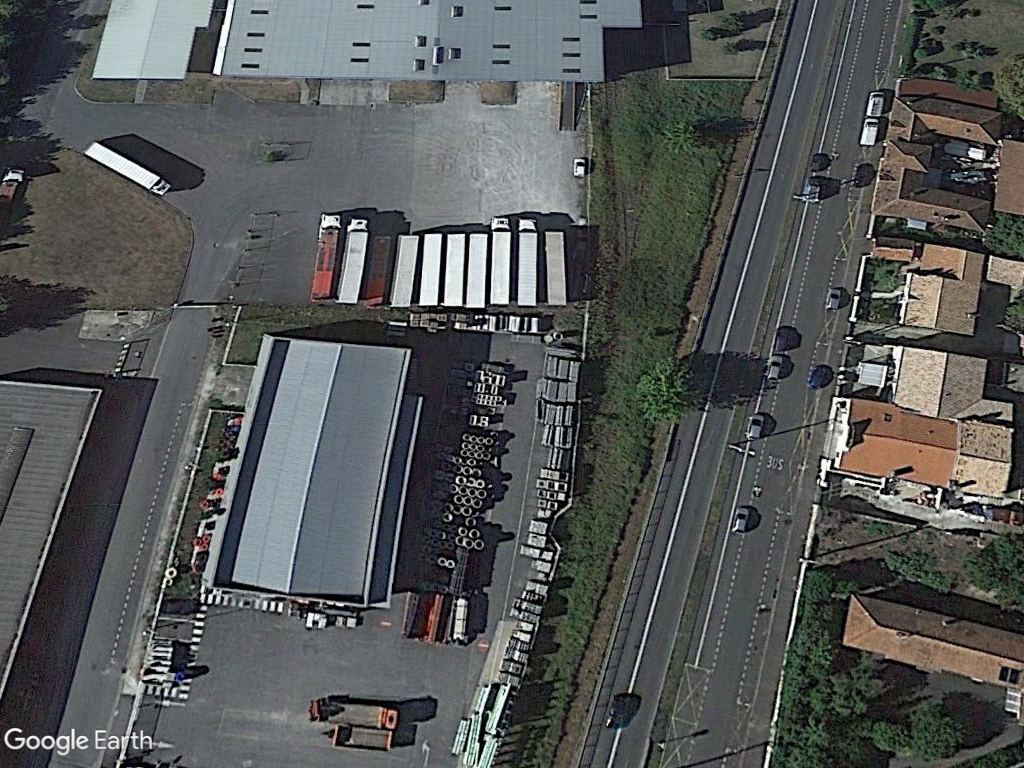longvehicle: (81, 137, 175, 200), (304, 207, 349, 306), (510, 211, 543, 308), (488, 211, 513, 311)
